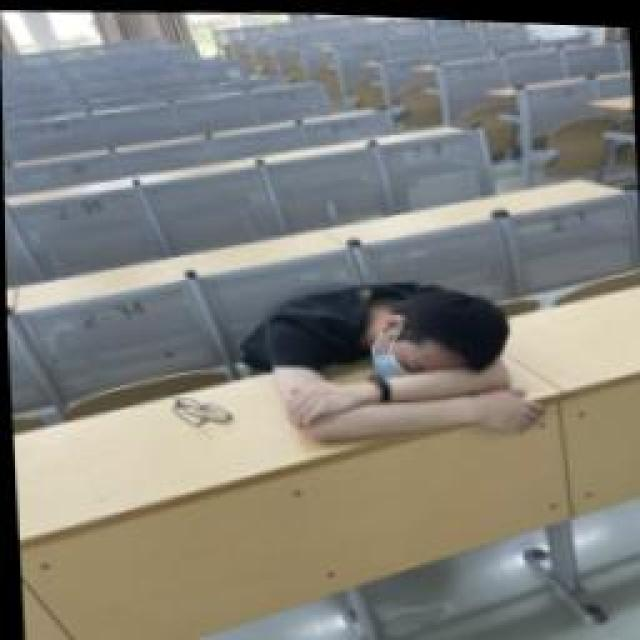sleep: (245, 270, 537, 445)
